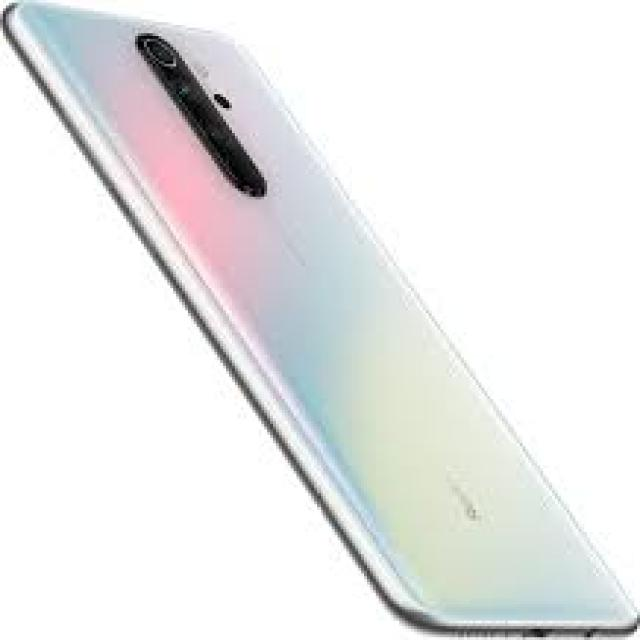Red Mi Note 8 Pro: (6, 0, 640, 634)
